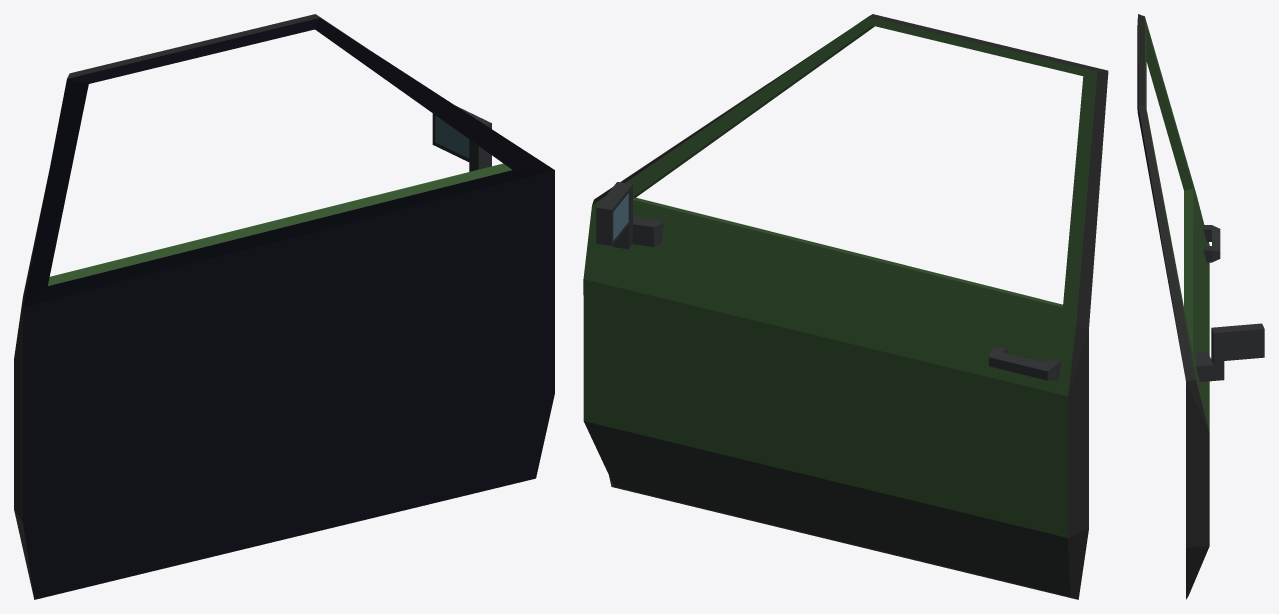
The model's file is Door_L.obj.
The picture shows the model from 3 angles, left to right: view 1: azimuth 30°, elevation 25°; view 2: azimuth 150°, elevation 25°; view 3: azimuth 270°, elevation 25°; orthographic projection. The views are drawn at different scales.
Visible parts, largest first — view 1: door_l; view 2: door_l; view 3: door_l.
Boxes of the visible parts, x1=… form: door_l: x1=14, y1=14, x2=554, y2=599; door_l: x1=583, y1=14, x2=1108, y2=599; door_l: x1=1137, y1=14, x2=1264, y2=599.
Size of the model in its own units: 3.12 by 3.06 by 0.8736.
